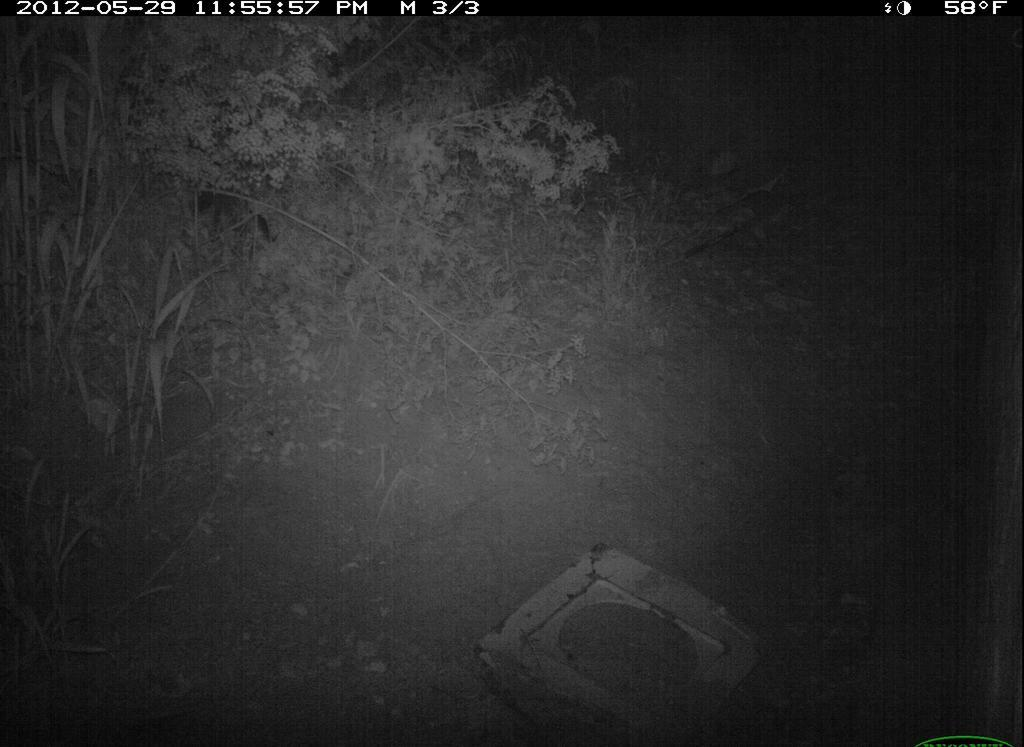cat: (184, 176, 285, 272)
